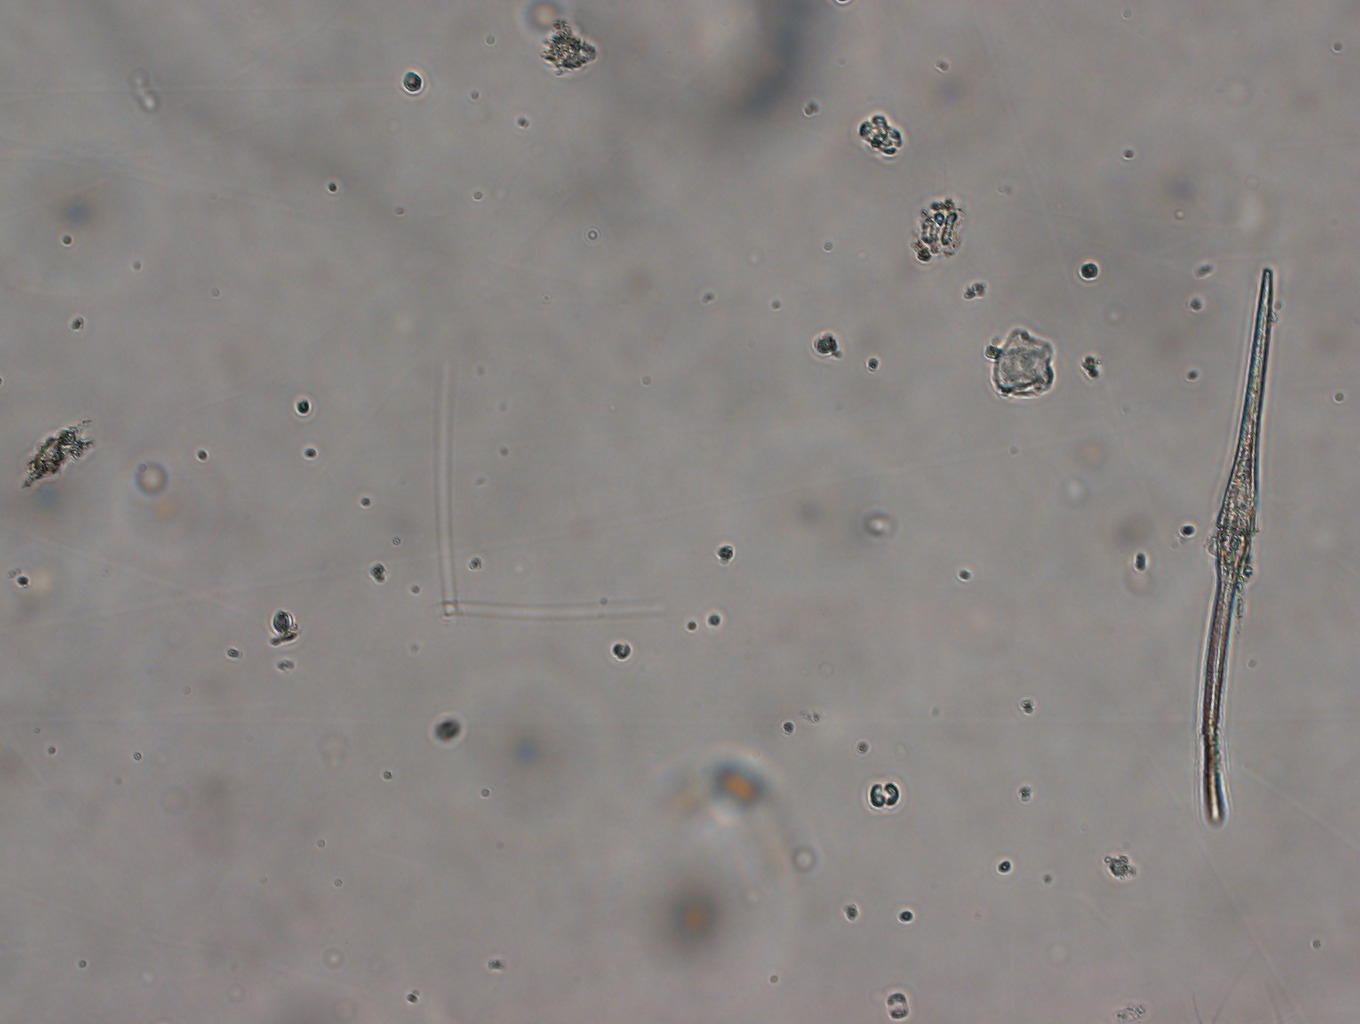ceratium fusus: (1180, 264, 1283, 830)
